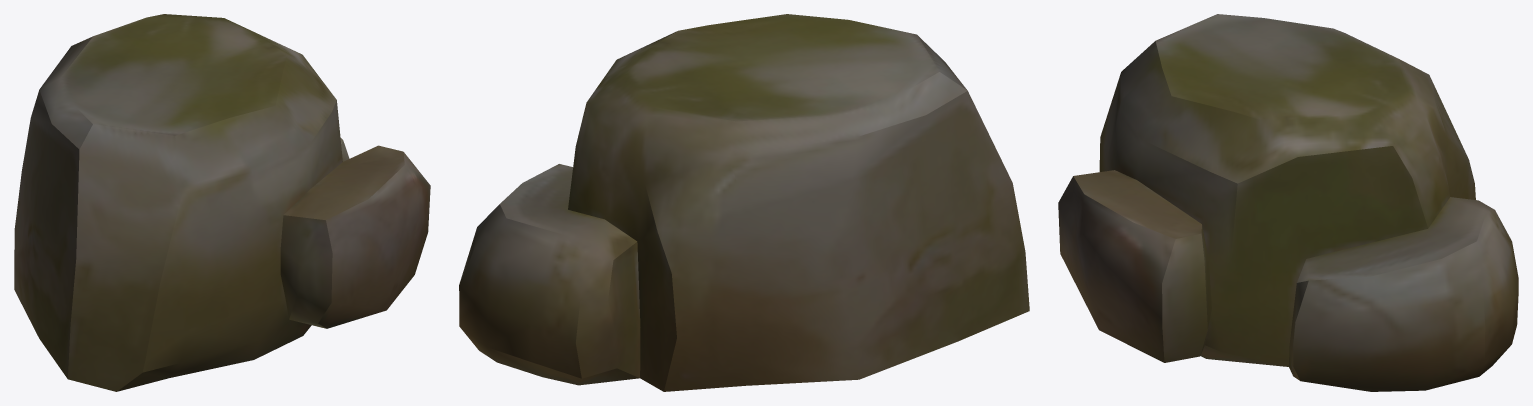
Rendered from Stone_A_001_003.fbx.
The picture shows the model from 3 angles, left to right: view 1: azimuth 30°, elevation 25°; view 2: azimuth 150°, elevation 25°; view 3: azimuth 270°, elevation 25°; orthographic projection. The views are drawn at different scales.
Parts seen in each view (by area): view 1: Stone_A_001_003_LOD0; view 2: Stone_A_001_003_LOD0; view 3: Stone_A_001_003_LOD0.
Part boxes in pixels (<box>): Stone_A_001_003_LOD0: <box>14,14,430,391</box>; Stone_A_001_003_LOD0: <box>459,14,1029,391</box>; Stone_A_001_003_LOD0: <box>1058,14,1518,391</box>.
Size of what is drawn, in the model's own units: 376 by 228 by 403.
1 material, 1 textured.
